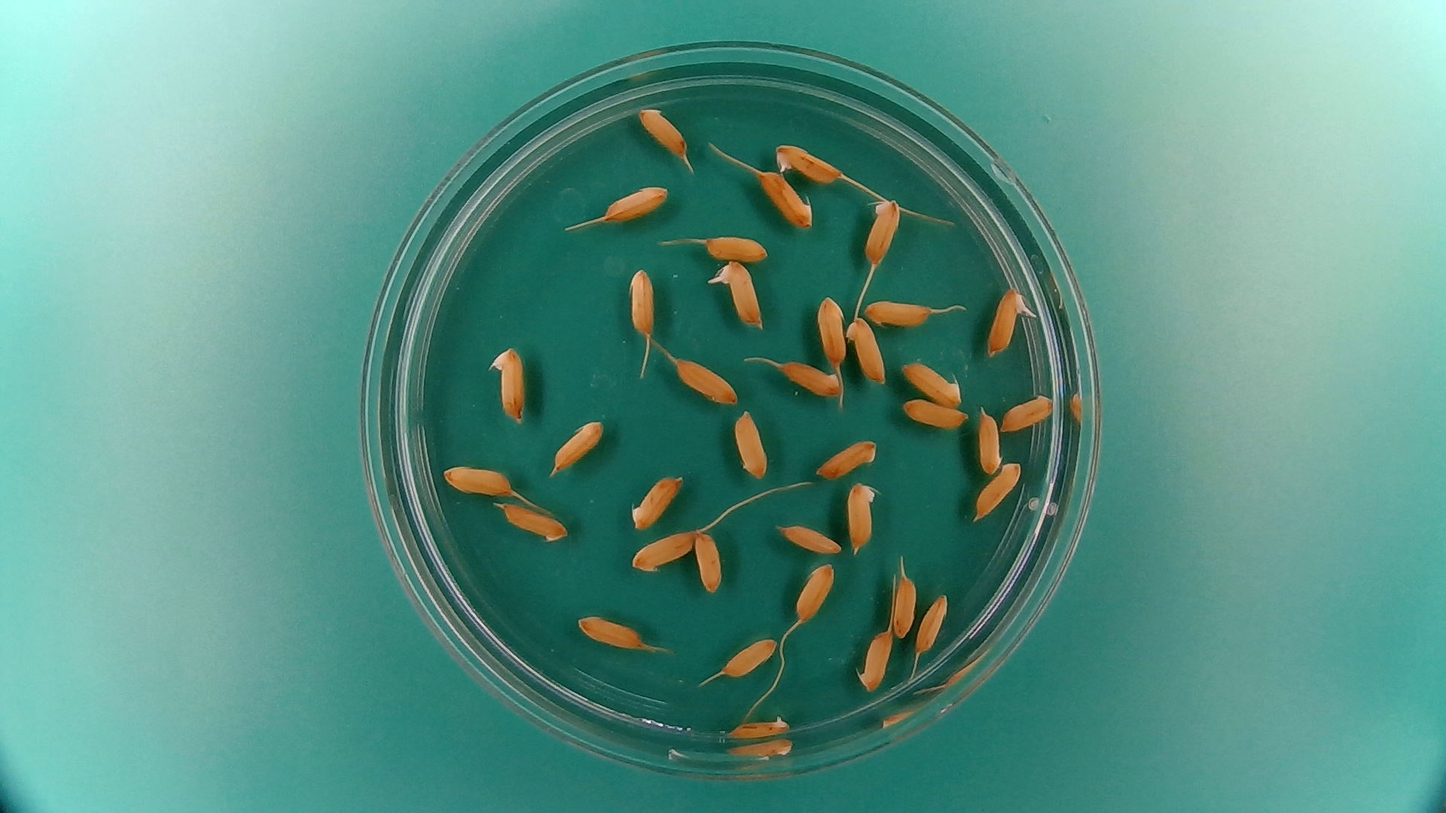no: (753, 169, 815, 230), (897, 355, 966, 409), (548, 415, 608, 474), (672, 356, 741, 405), (629, 473, 687, 531), (627, 528, 700, 574), (634, 102, 691, 160), (489, 341, 529, 423), (497, 501, 569, 546), (813, 434, 882, 480), (974, 460, 1025, 522), (574, 611, 648, 653), (845, 314, 888, 385), (600, 181, 671, 224), (773, 141, 843, 184), (439, 462, 517, 499), (731, 407, 770, 480), (855, 626, 896, 693), (776, 358, 843, 399), (863, 194, 901, 266), (793, 561, 837, 623), (719, 635, 779, 678), (900, 396, 969, 431), (847, 480, 880, 553), (914, 591, 950, 657), (776, 521, 843, 556), (1000, 391, 1056, 432), (816, 292, 846, 368), (700, 232, 771, 264), (628, 265, 658, 335), (975, 405, 1003, 477), (865, 297, 932, 327), (725, 711, 791, 741), (694, 530, 724, 595), (891, 571, 916, 638)
yes: (706, 257, 766, 329), (984, 282, 1036, 358)
